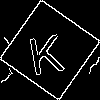K: (25, 25, 66, 76)
